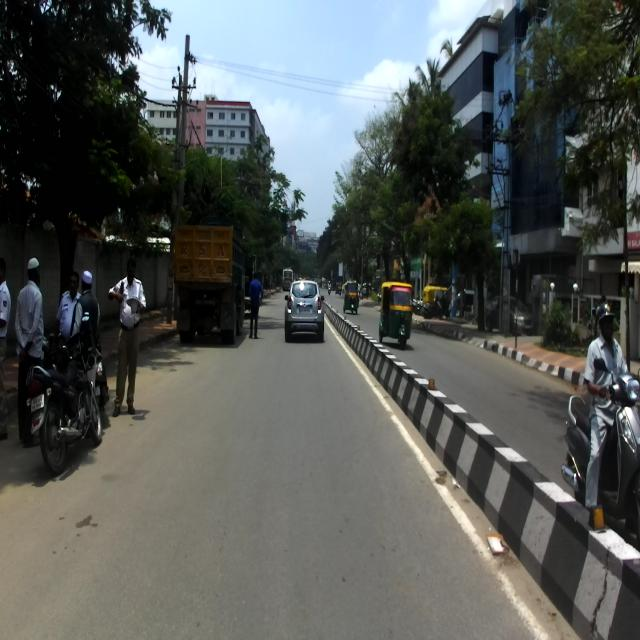car ahead at: (285, 277, 325, 343)
motorcycle ahead at: (567, 368, 640, 548), (25, 324, 110, 470)
person ahead at: (110, 265, 144, 419)
truck ahead at: (171, 220, 244, 345)
